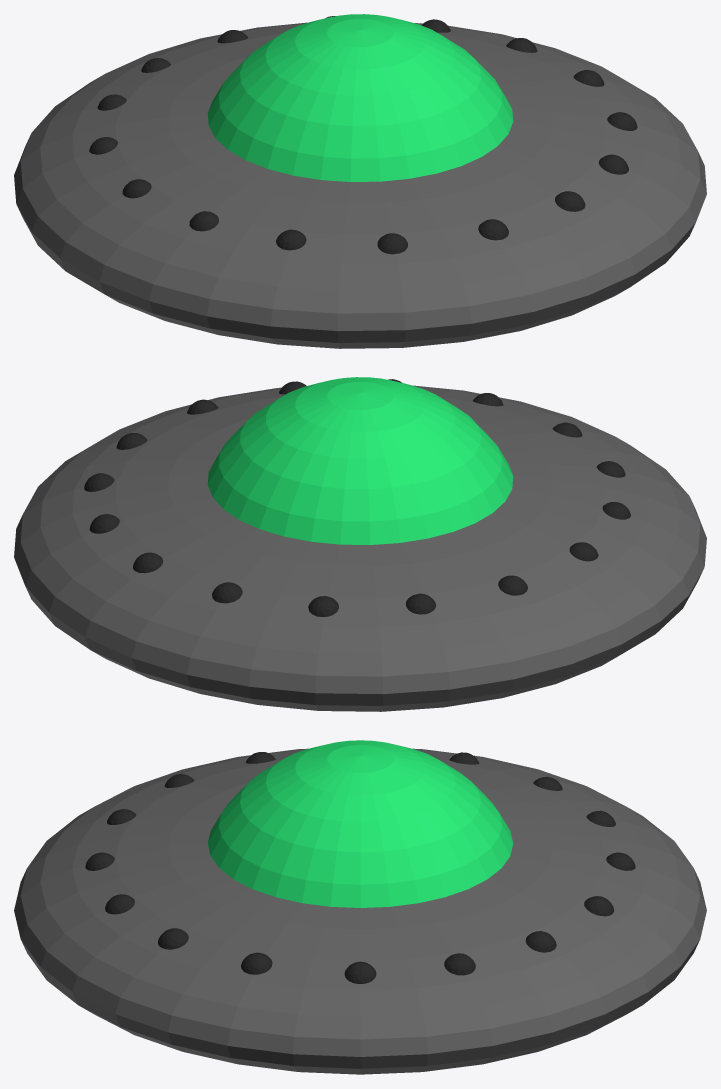
Rendered from UFO.glb.
The picture shows the model from 3 angles, top to bottom: view 1: azimuth 30°, elevation 25°; view 2: azimuth 150°, elevation 25°; view 3: azimuth 270°, elevation 25°; orthographic projection.
Parts seen in each view (by area): view 1: Sphere.001, Sphere, Sphere.002; view 2: Sphere.001, Sphere, Sphere.002; view 3: Sphere.001, Sphere, Sphere.002.
Boxes of the visible parts, left/top/right/bottom form: Sphere.001: left=14, top=22, right=706, bottom=348; Sphere: left=207, top=14, right=513, bottom=181; Sphere.002: left=89, top=16, right=637, bottom=254; Sphere.001: left=14, top=385, right=706, bottom=711; Sphere: left=207, top=377, right=513, bottom=544; Sphere.002: left=84, top=379, right=630, bottom=616; Sphere.001: left=14, top=748, right=706, bottom=1074; Sphere: left=207, top=740, right=513, bottom=907; Sphere.002: left=85, top=752, right=635, bottom=983.
Bounding box in the file's own units: 22.28 × 8.81 × 22.28.
